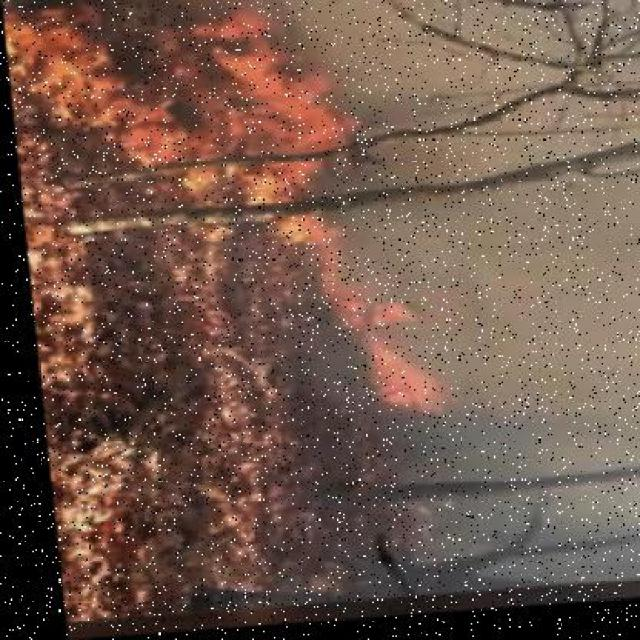fire: (62, 27, 333, 301), (347, 289, 430, 441)
